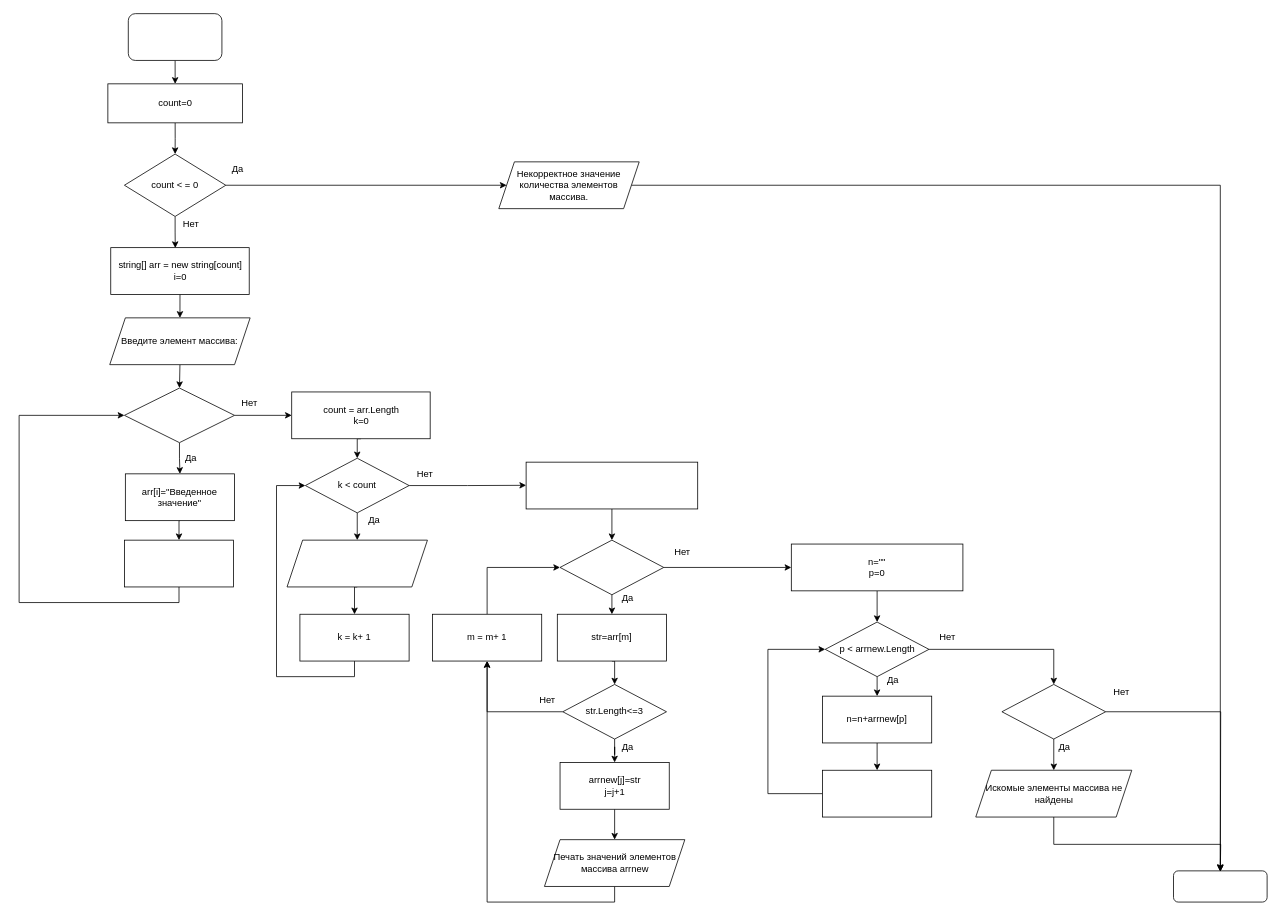
Image size: 1281x922. Some labels were removed from this diagram. The centre of each missing label's shape, as x and y in pixels:
i < arr.Length: pixel 179 415
i = i + 1: pixel 179 563
m < arr.Length: pixel 611 567
n="": pixel 1053 711
p = p + 1: pixel 877 793
string[] arrnew = new string[count] j=0 m=0: pixel 611 485
Конец: pixel 1220 886
Начало: pixel 175 36
Печать введенных значений элементов массива arr: pixel 356 563
